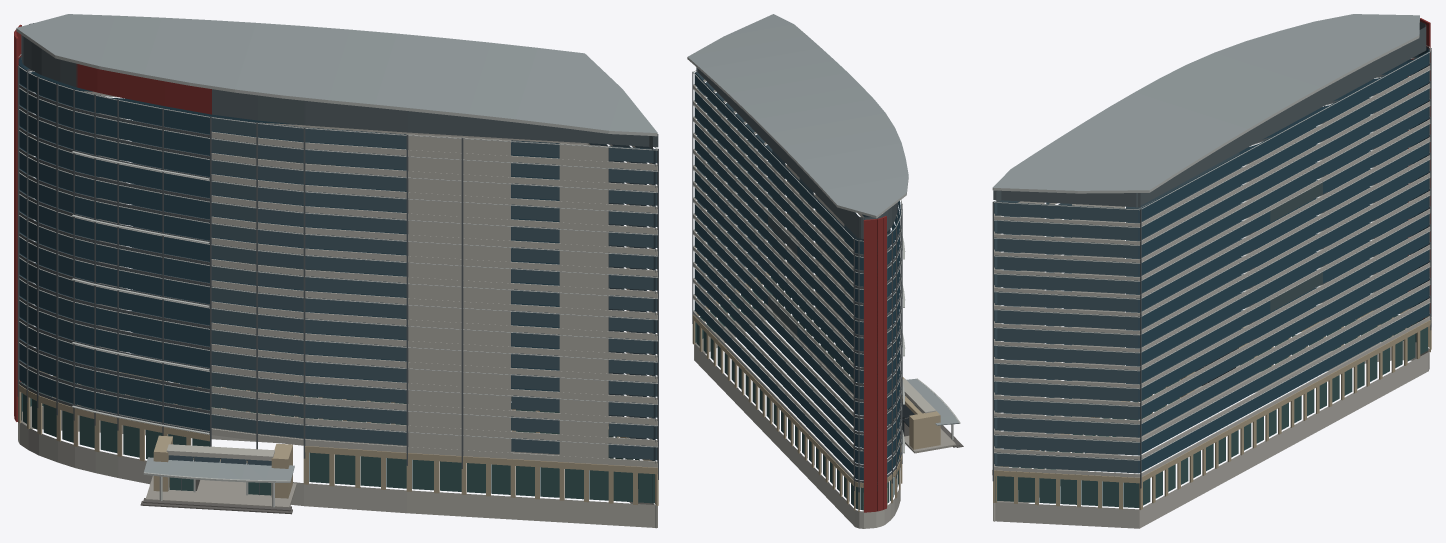
File: menara_razak_lod2.glb
3 views of the same model, side by side, from view 1: azimuth 30°, elevation 25°; view 2: azimuth 150°, elevation 25°; view 3: azimuth 270°, elevation 25° (orthographic). The views are drawn at different scales.
Parts seen in each view (by area): view 1: Precast, GlassSteel, GlassBlue, RoofSeam, Anodized, Silver, GlassLobby, Louvers, Sandstone, Wine, RoofEdge, Paving (+1 smaller); view 2: GlassBlue, RoofSeam, Precast, Wine, Silver, Sandstone, Anodized, GlassLobby, GlassSteel, Louvers, RoofEdge, GlassWarm (+1 smaller); view 3: GlassBlue, Precast, GlassSteel, RoofSeam, Silver, GlassLobby, Sandstone, Louvers, Anodized, RoofEdge, GlassWarm.
Boxes of the visible parts, x1,y1,x2,y2 form: Precast: (18, 91, 657, 528); GlassSteel: (169, 116, 657, 465); GlassBlue: (18, 57, 559, 431); RoofSeam: (16, 14, 657, 480); Anodized: (17, 65, 658, 495); Silver: (18, 54, 658, 507); GlassLobby: (21, 377, 654, 503); Louvers: (21, 23, 658, 149); Sandstone: (18, 367, 658, 505); Wine: (14, 24, 211, 421); RoofEdge: (16, 28, 657, 136); Paving: (145, 475, 296, 508); GlassBlue: (695, 73, 900, 480); RoofSeam: (688, 14, 958, 425); Precast: (693, 79, 935, 528); Wine: (863, 216, 886, 512); Silver: (693, 70, 960, 467); Sandstone: (692, 273, 940, 511); Anodized: (692, 71, 958, 492); GlassLobby: (695, 277, 898, 510); GlassSteel: (694, 72, 921, 412); Louvers: (696, 67, 897, 238); RoofEdge: (687, 57, 908, 218); GlassWarm: (768, 215, 797, 335); GlassBlue: (1138, 47, 1429, 473); Precast: (993, 65, 1430, 528); GlassSteel: (994, 152, 1239, 473); RoofSeam: (993, 14, 1419, 190); Silver: (993, 45, 1431, 460); GlassLobby: (995, 315, 1427, 507); Sandstone: (992, 308, 1431, 509); Louvers: (993, 21, 1426, 207); Anodized: (992, 46, 1431, 488); RoofEdge: (992, 20, 1419, 193); GlassWarm: (1270, 181, 1322, 312).
Bounding box in the file's own units: 59.85 × 57.01 × 65.
